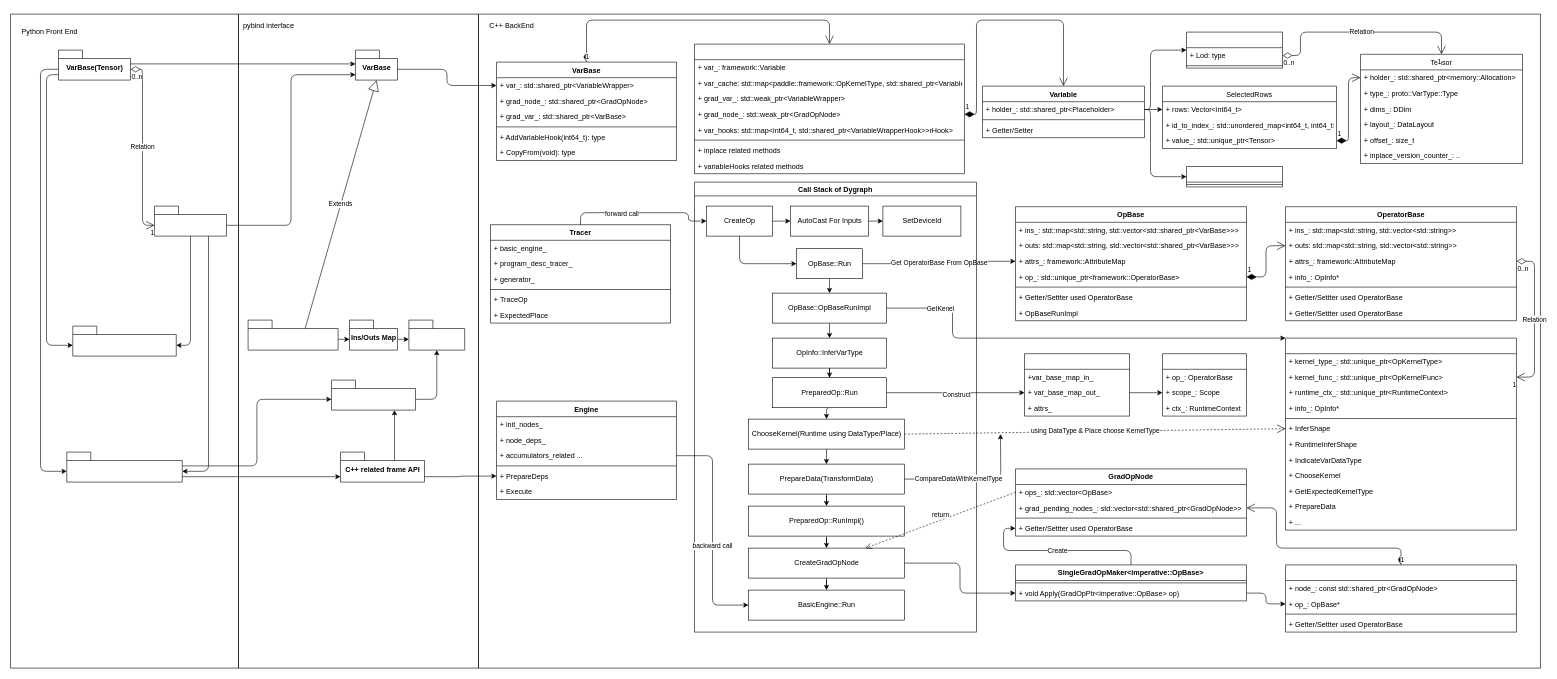
Image size: 1557x679. Some labels were removed from this diagram. The box of each missing label's shape, as (x1, y1, x2, y2) in pixels:
C++ related frame API(trace,...): (66, 452, 182, 482)
CastPyHandleToVarBase: (248, 320, 338, 350)
ComputeUnit/API(core.ops): (72, 326, 176, 356)
DygradExcutionContext: (1024, 353, 1130, 416)
ExcutionContext: (1162, 353, 1246, 416)
GetCurrentTracer: (331, 380, 416, 410)
LoDTensor: (1186, 32, 1282, 68)
OperatorWithKernel: (1285, 338, 1516, 530)
ParamBase(VarBase): (154, 206, 226, 236)
Raw: (1186, 166, 1282, 187)
TracedGradOp: (1285, 564, 1516, 632)
tracer.TraceOp: (408, 320, 465, 350)
VariableWrapper: (694, 44, 964, 174)
